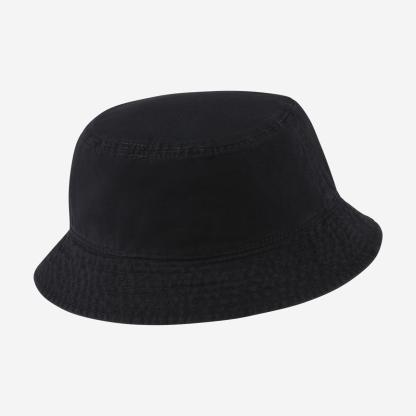hat: (28, 86, 386, 330)
